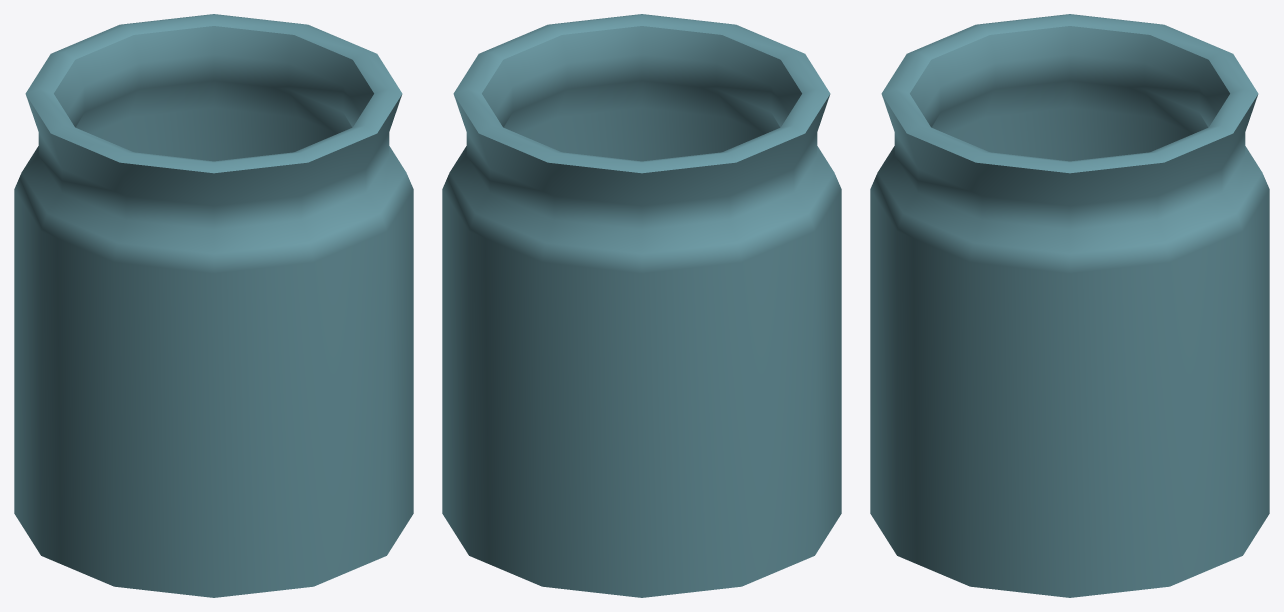
Rendered from BrainJar.fbx.
The picture shows the model from 3 angles, left to right: view 1: azimuth 30°, elevation 25°; view 2: azimuth 150°, elevation 25°; view 3: azimuth 270°, elevation 25°; orthographic projection.
Visible parts, largest first — view 1: BrainJar; view 2: BrainJar; view 3: BrainJar.
Part boxes in pixels (box(x1,y1,x2,y2)): BrainJar: box(14, 14, 413, 597); BrainJar: box(442, 14, 841, 597); BrainJar: box(870, 14, 1269, 597).
Size of the model in its own units: 2.35 by 2.76 by 2.35.
